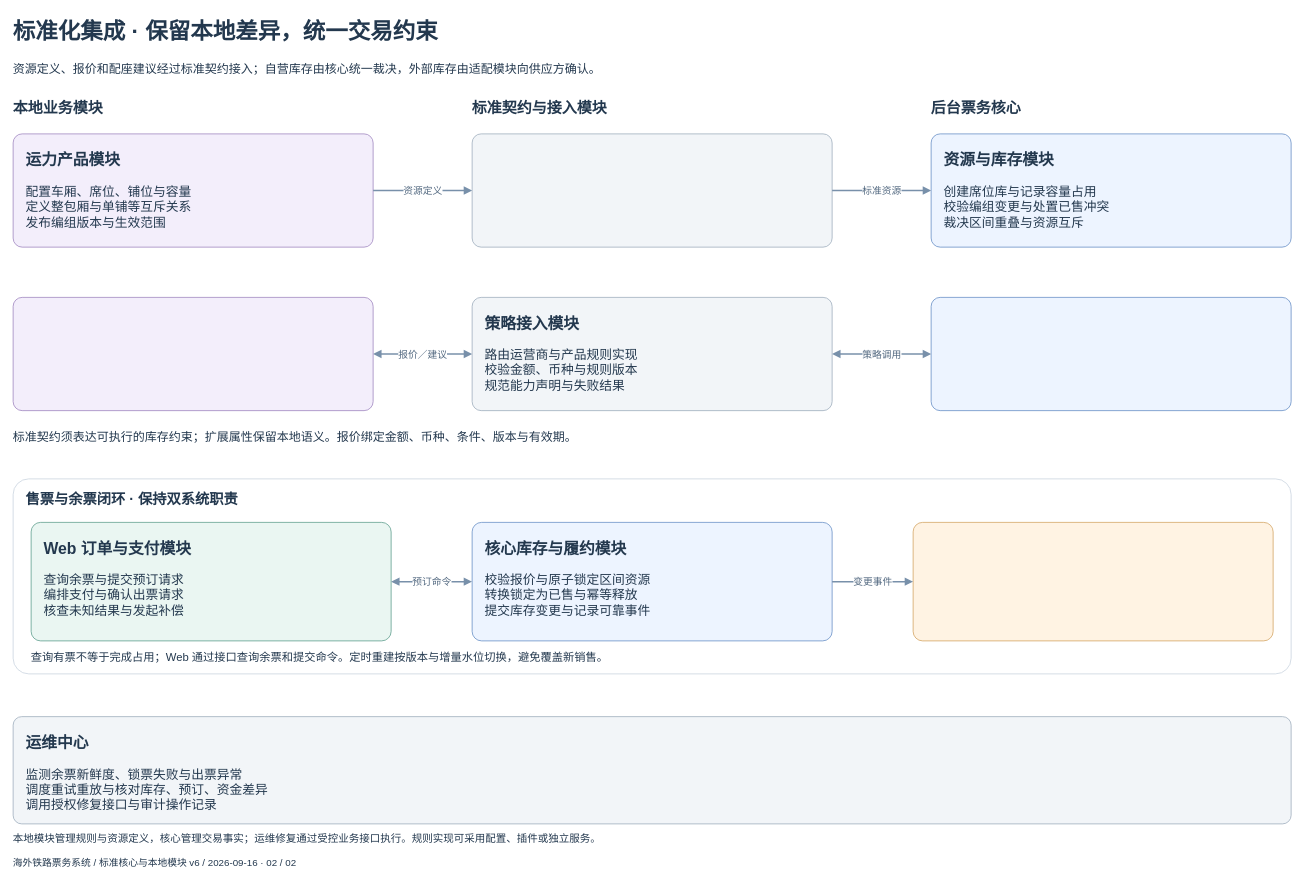
Some shapes in this 1304 by 885 pixel diagram are drawn without their labels. Here are the shapes that lost their labels. From the top down, the centre of each, then its label:
At pixel 651 190: "资源接入模块 映射车次、停站与区间标识 校验资源类型、容量与冲突关系 校验版本与保存扩展属性".
At pixel 192 354: "票价与选座策略模块 计算基础票价与退改费用 生成带有效期的报价与条件 提供候选席位与配座约束".
At pixel 1110 354: "票务预订模块 获取报价与校验适用条件 校验配座建议与原子锁定资源 固化成交条件与转换预订状态".
At pixel 1092 581: "核心余票管理模块 消费事件与增量更新余票库 执行定时初始化与校准重建 提供查询快照与标记更新时间".
